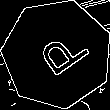P_SW: (26, 25, 88, 84)
